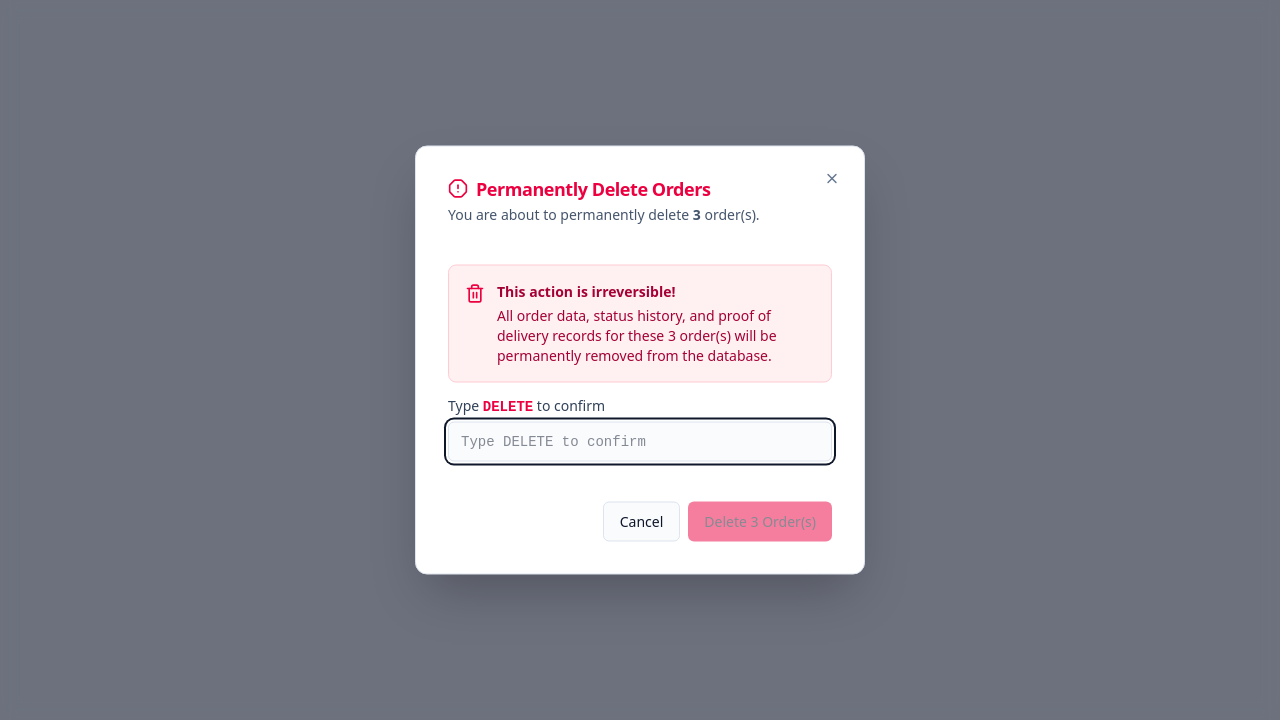
Test: BatchDeleteDialog Component › Edge Cases › handles clearing confirmation input
In the field with placeholder "Type DELETE to confirm": (640, 442) [448, 422, 832, 462], type "DELETE"
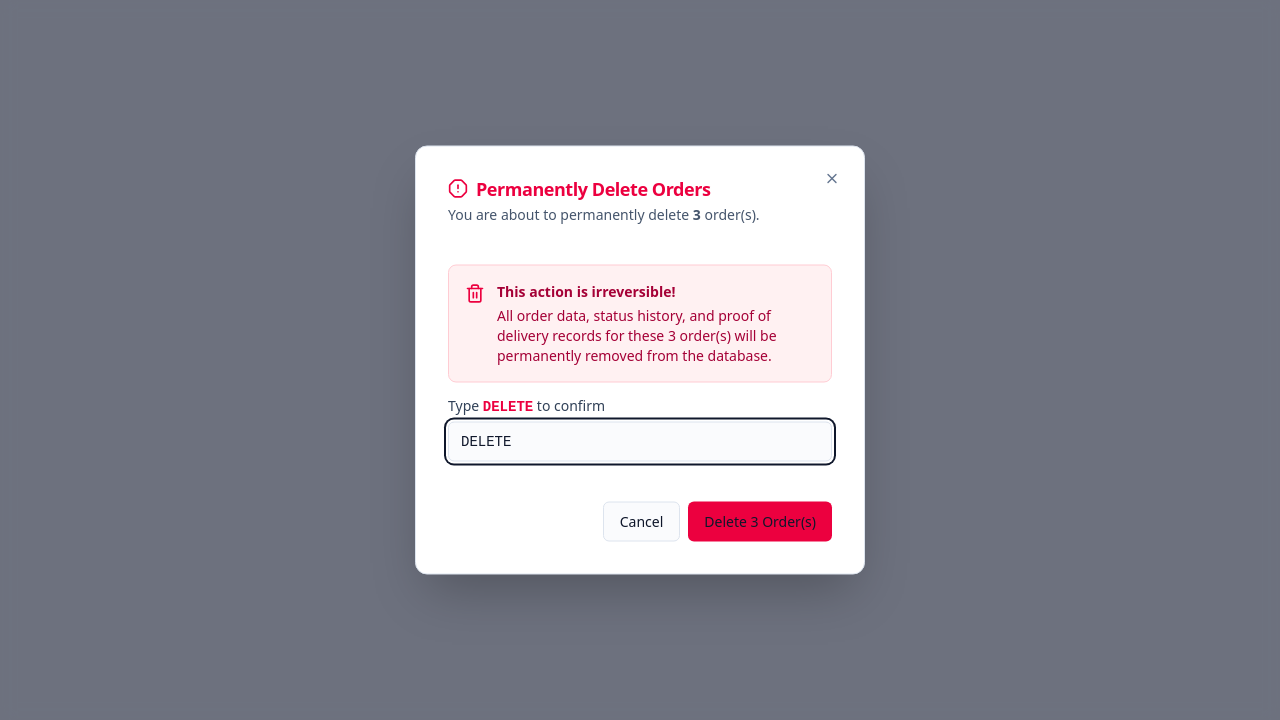
Clear the field with placeholder "Type DELETE to confirm": (640, 442) [448, 422, 832, 462]
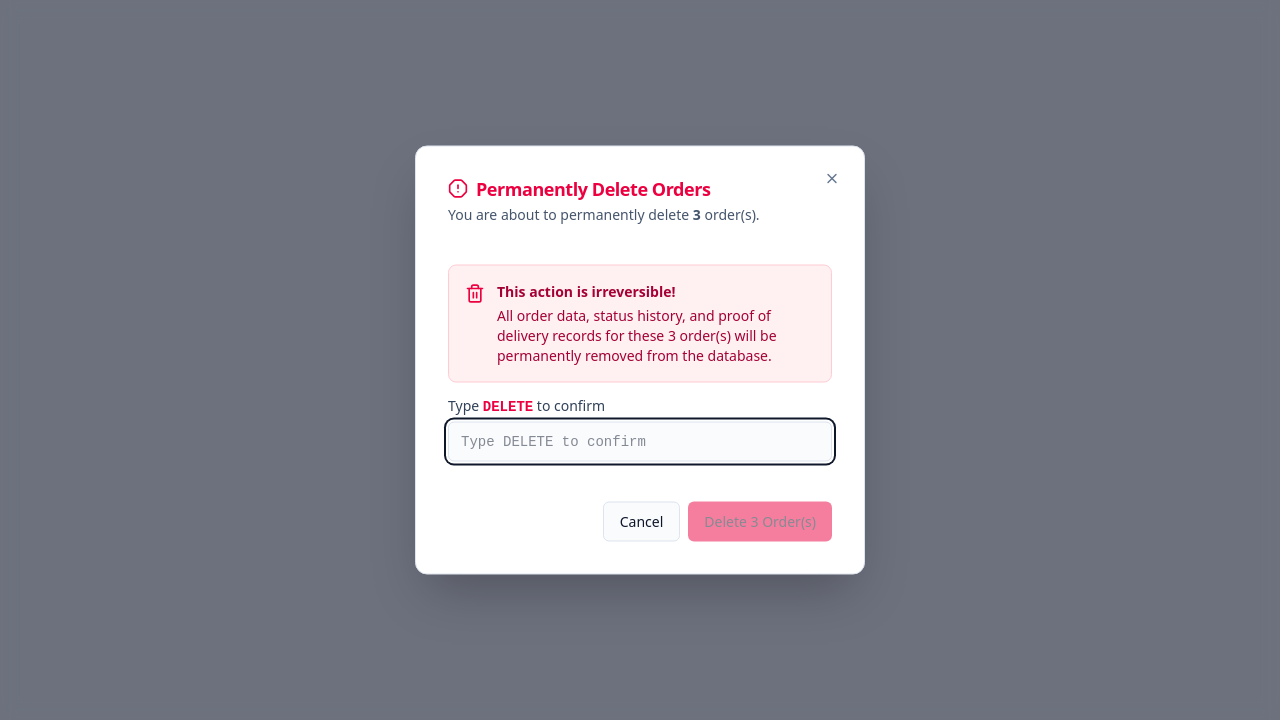
Check: the button "Delete 3 Order(s)" is disabled, box [688, 502, 832, 542]
